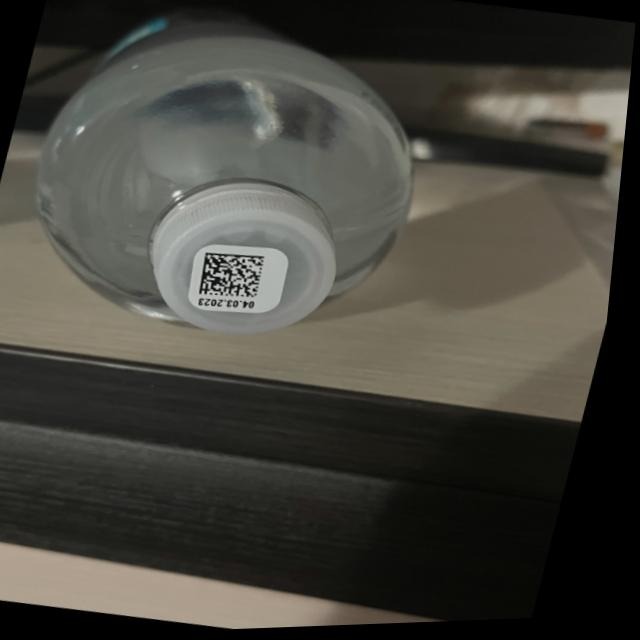datamatrix: (202, 250, 274, 305)
